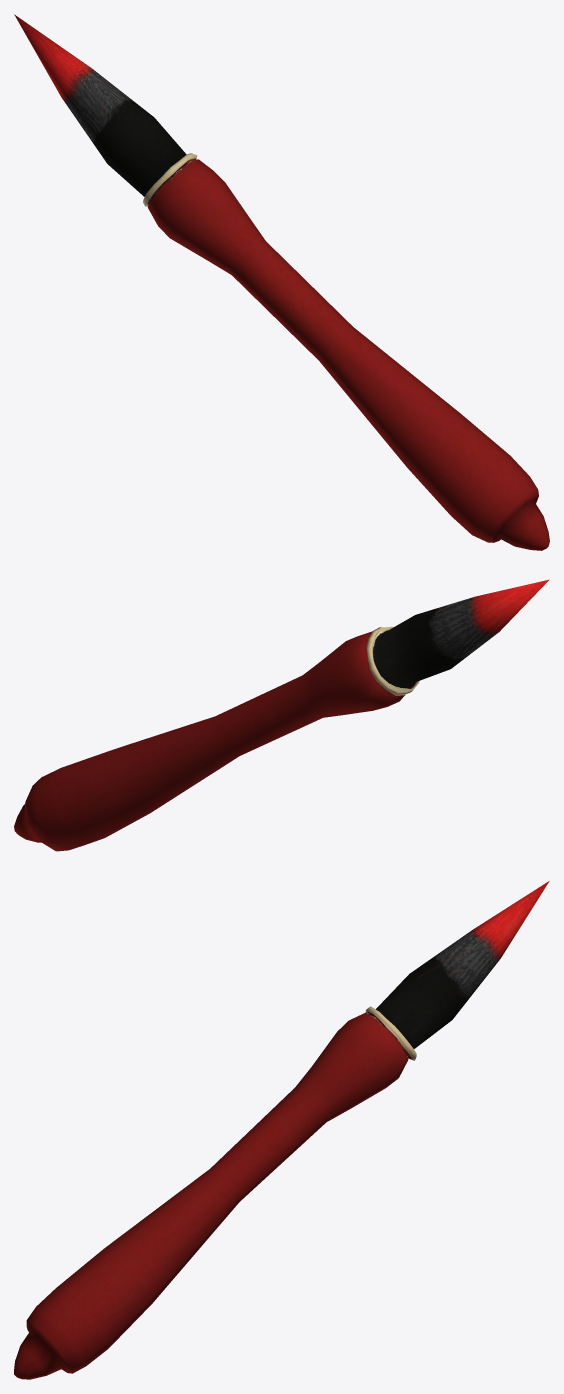
Rendered from tripo_convert_52a08897-1f30-4da6-8ea7-1896e1ccc3f0.fbx.
3 views of the same model, one above another, from view 1: azimuth 30°, elevation 25°; view 2: azimuth 210°, elevation 25°; view 3: azimuth 270°, elevation 25° (orthographic). The views are drawn at different scales.
Visible parts, largest first — view 1: tripo_node_52a08897; view 2: tripo_node_52a08897; view 3: tripo_node_52a08897.
Part boxes in pixels (x1=…): tripo_node_52a08897: x1=14, y1=14, x2=549, y2=550; tripo_node_52a08897: x1=14, y1=579, x2=549, y2=851; tripo_node_52a08897: x1=14, y1=881, x2=549, y2=1379.
Bounding box in the file's own units: 0.5527 × 0.7832 × 0.998.
